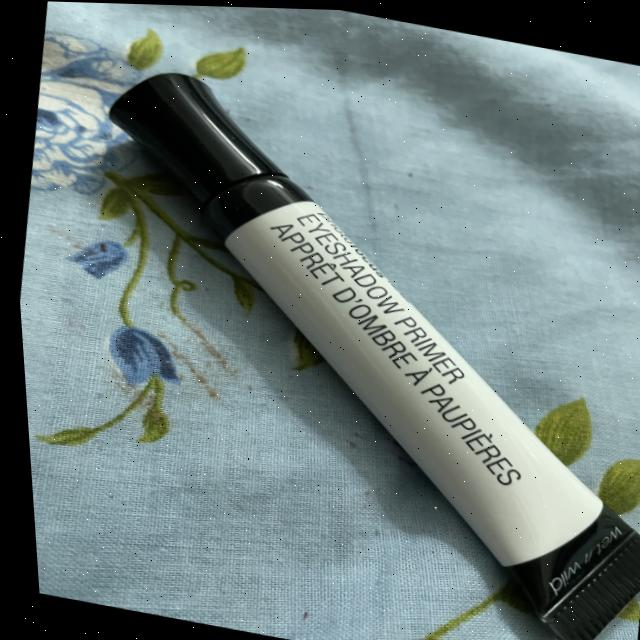primer: (2, 39, 640, 640)
